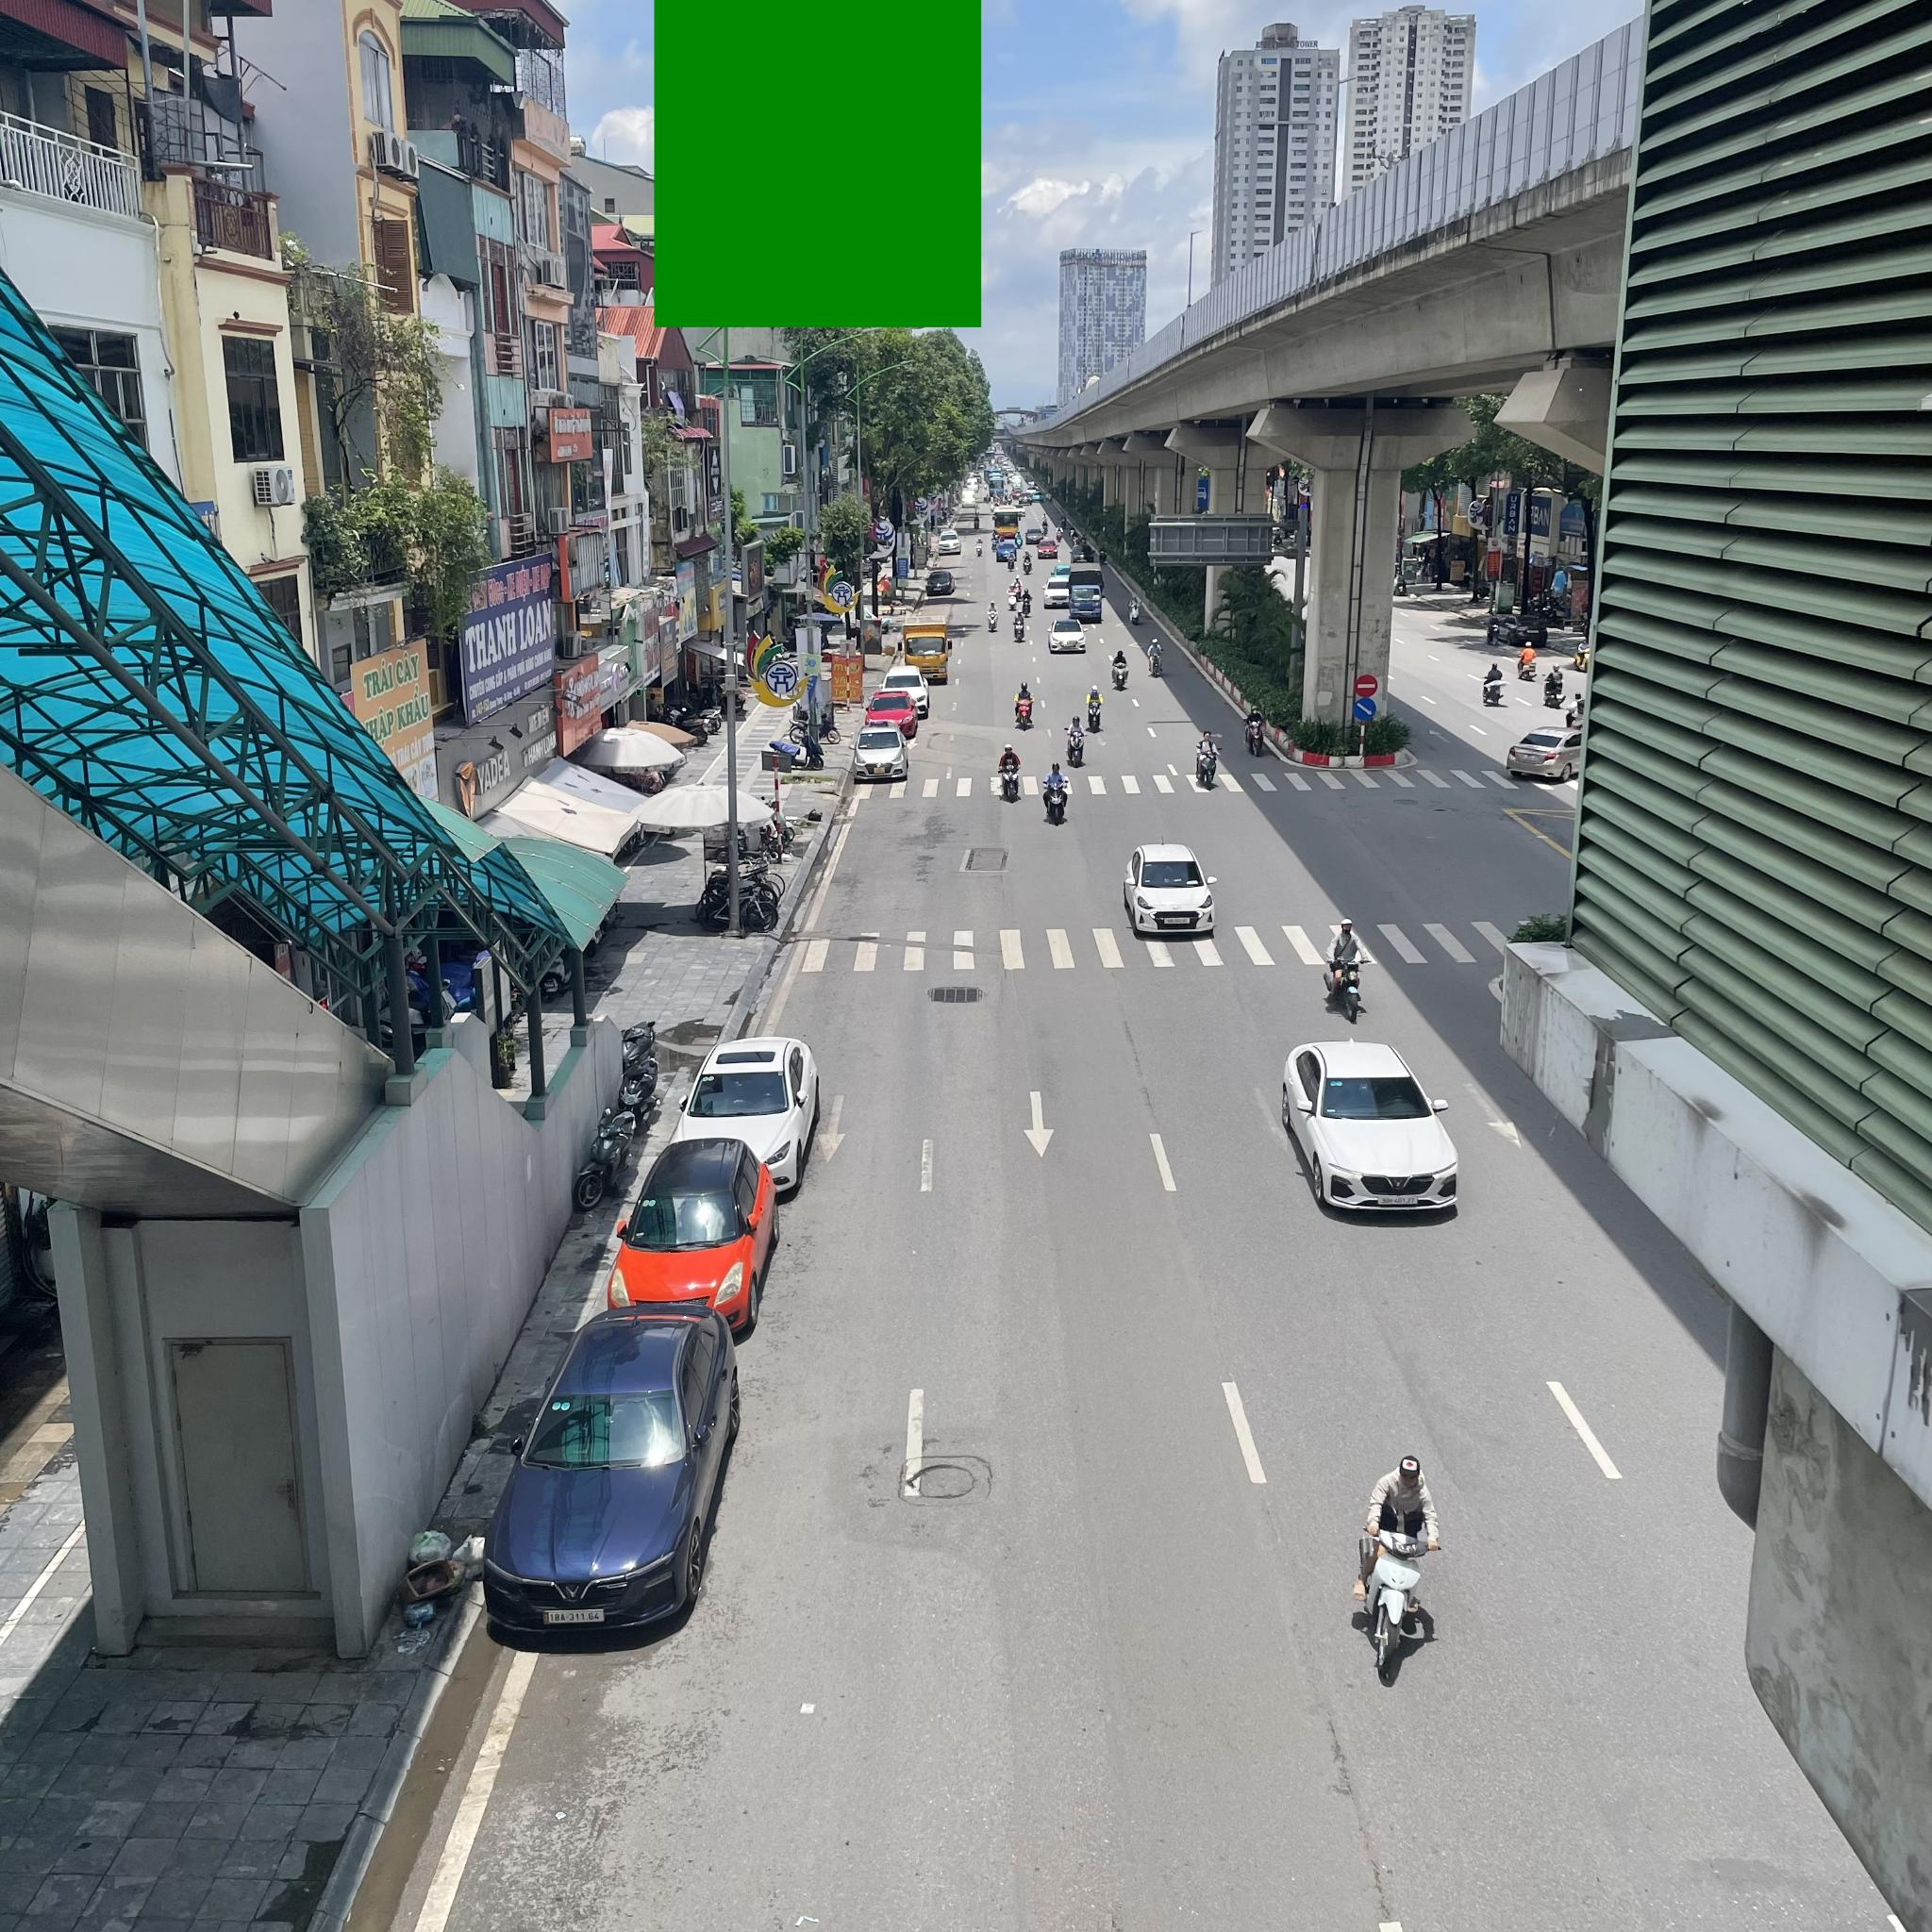car: (476, 1306, 745, 1638), (1276, 1042, 1468, 1231), (607, 1148, 777, 1341), (672, 1035, 819, 1184), (1125, 840, 1215, 939), (855, 727, 906, 778), (1070, 563, 1104, 623), (1047, 619, 1088, 653)
motobike: (1348, 1447, 1442, 1693), (1323, 916, 1371, 1021), (1042, 766, 1070, 826), (996, 748, 1024, 796), (1196, 731, 1219, 787), (1244, 706, 1267, 757), (1014, 681, 1035, 729), (1067, 718, 1086, 766), (1088, 686, 1104, 734), (1141, 648, 1168, 674), (1111, 651, 1127, 688), (1129, 594, 1143, 626), (985, 602, 1000, 632), (1014, 612, 1024, 646), (1021, 589, 1033, 617)
